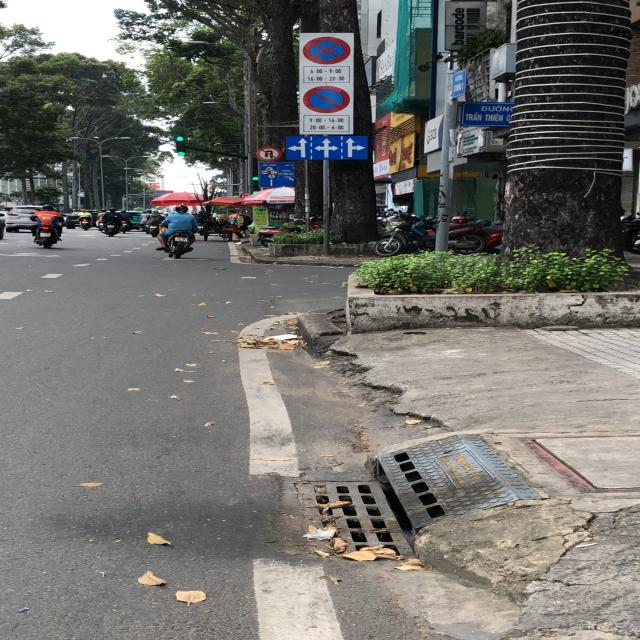Bien bao cam do xe: (300, 84, 352, 116)
Bien bao cam dung xe va do xe: (301, 35, 353, 68)
Bien bao cam quay dau xe: (254, 144, 284, 162)
